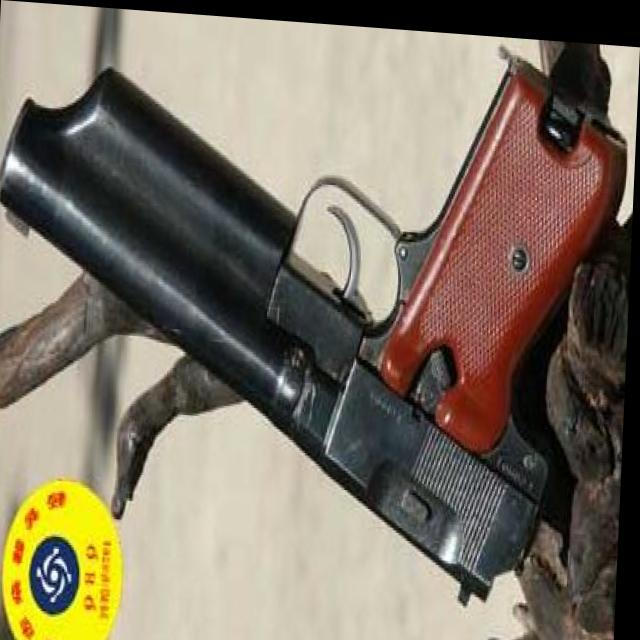handgun: (0, 7, 629, 606)
